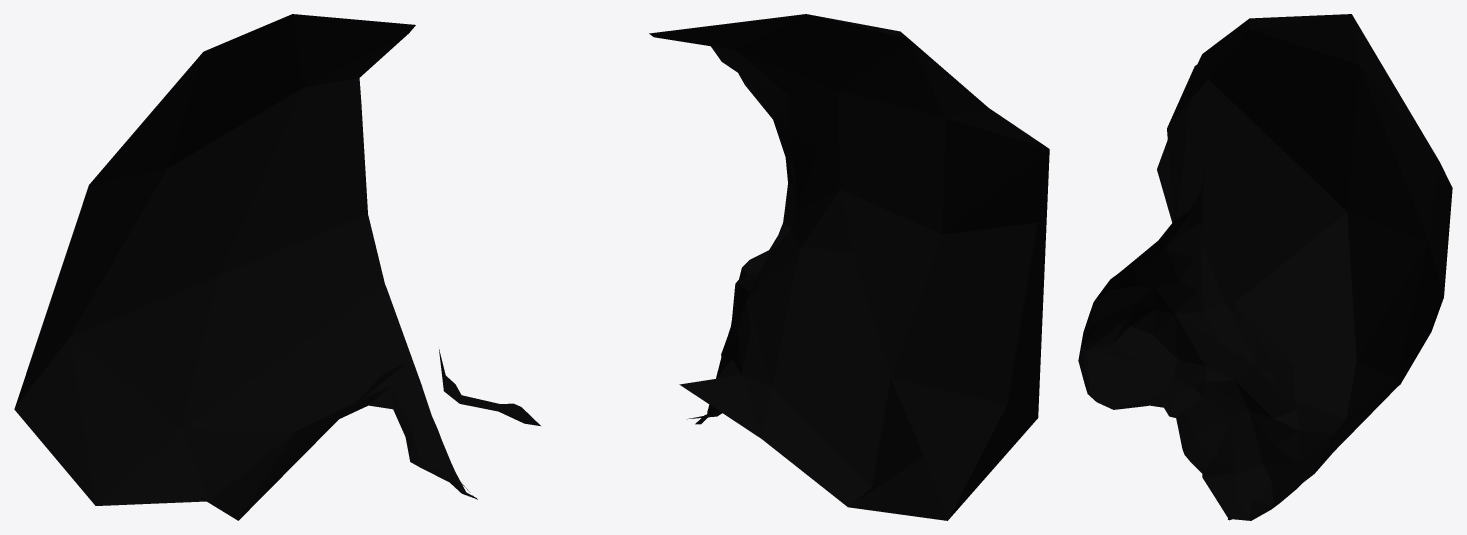
3 renders of one model, left to right at view 1: azimuth 30°, elevation 25°; view 2: azimuth 150°, elevation 25°; view 3: azimuth 270°, elevation 25°, orthographic. The views are drawn at different scales.
Size of the model in its own units: 0.334 by 0.3729 by 0.2955.
1 material, 1 textured.
